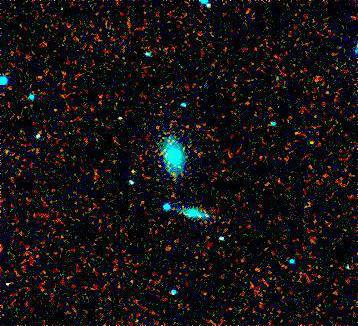star: (118, 155, 148, 185)
